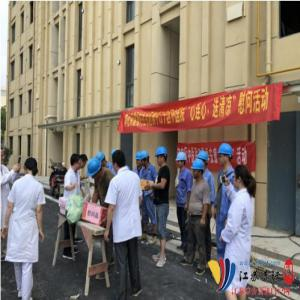blue: (87, 158, 102, 181), (219, 144, 234, 166), (155, 147, 169, 168), (192, 160, 205, 181), (177, 152, 188, 169), (140, 152, 151, 168), (95, 152, 107, 166), (136, 152, 141, 167)
none: (234, 165, 251, 190), (112, 150, 127, 174), (24, 157, 39, 179), (71, 153, 82, 172)
